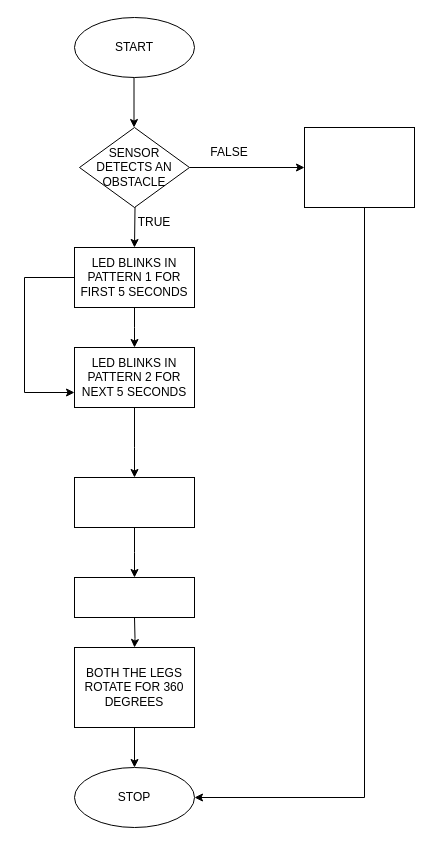
Some shapes in this 432 by 845 pixel diagram are drawn without their labels. Each missing label, with the centre of its shape:
"DC MOTORS ON" belongs at (134,597).
"DISPLAYS GREETING/TEAM NAME ON THE LCD DISPLAY BOARD" belongs at (359,167).
"PRODUCES PLEASANT MUSIC FOR 10 SEC" belongs at (134,502).
